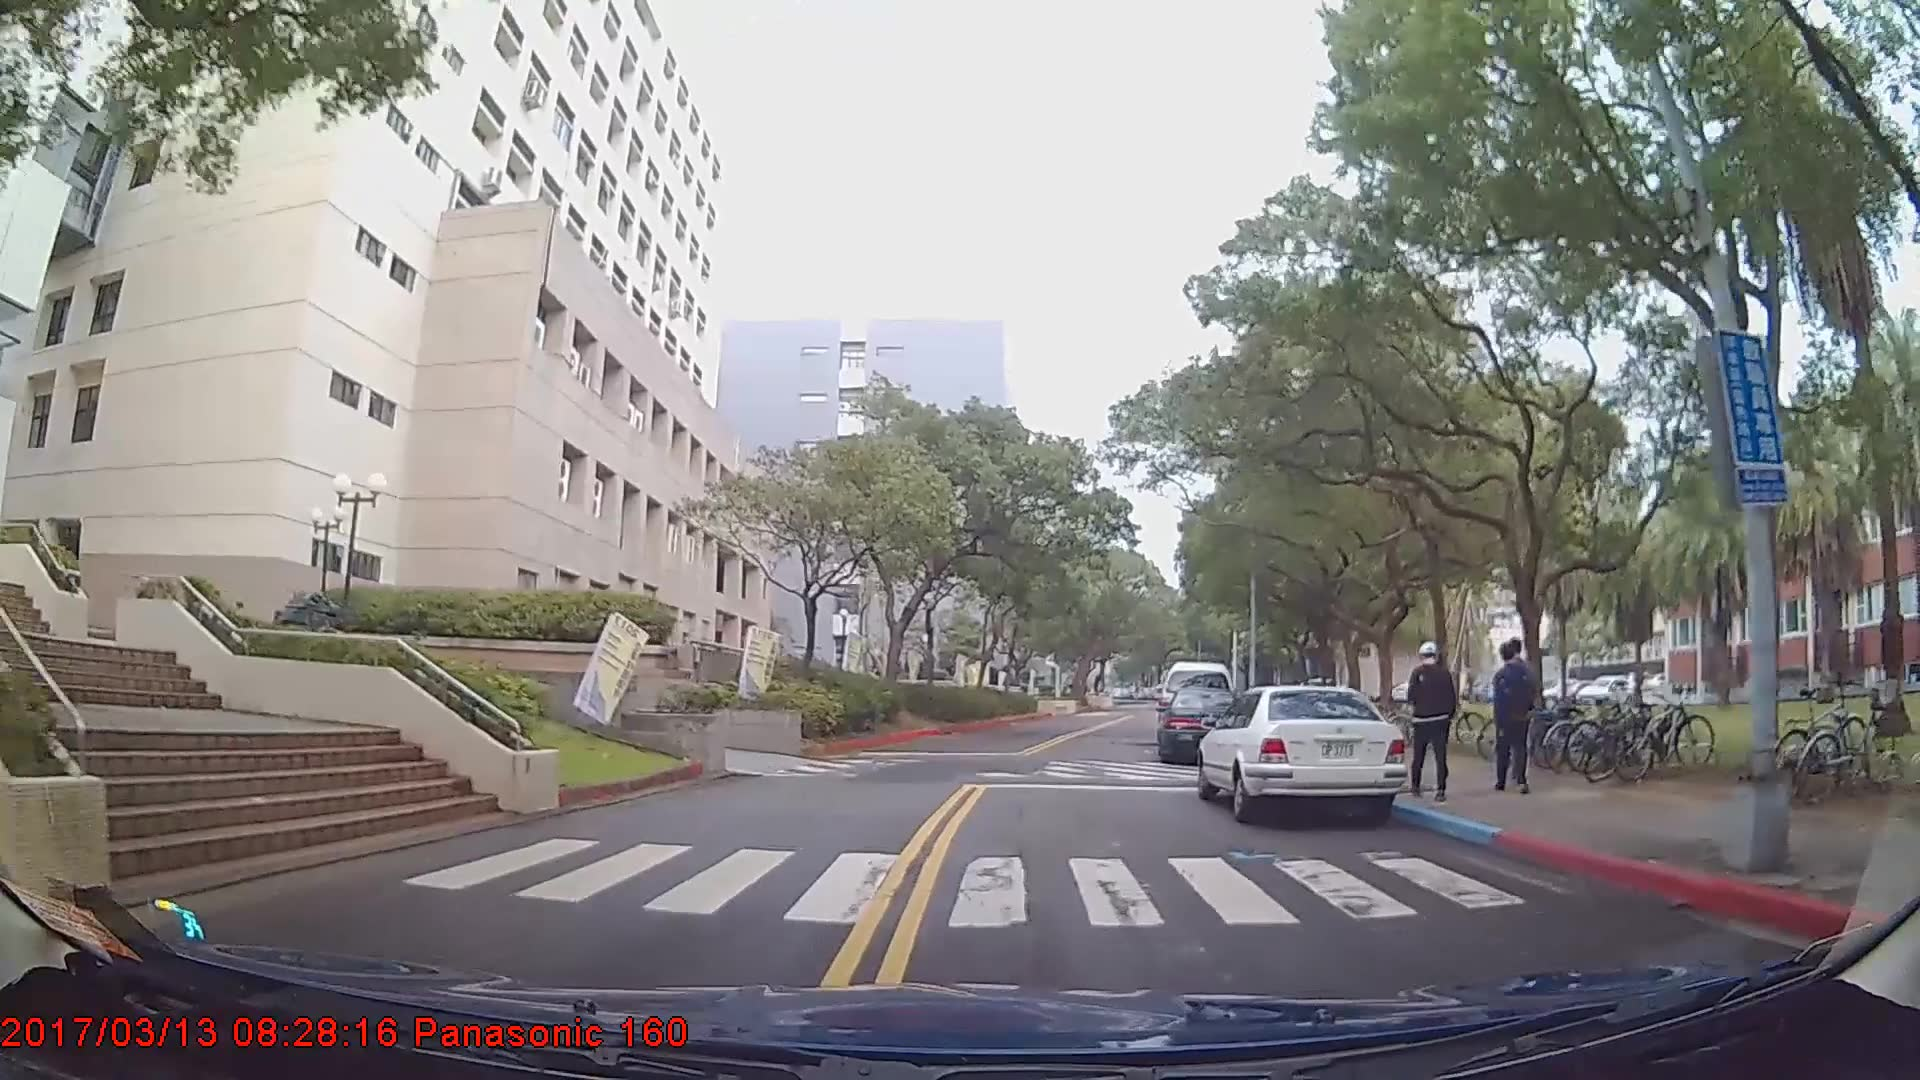pedestrian: (1487, 639, 1541, 798), (1407, 642, 1460, 802)
vehicle: (1196, 684, 1407, 823), (1157, 686, 1251, 764)
